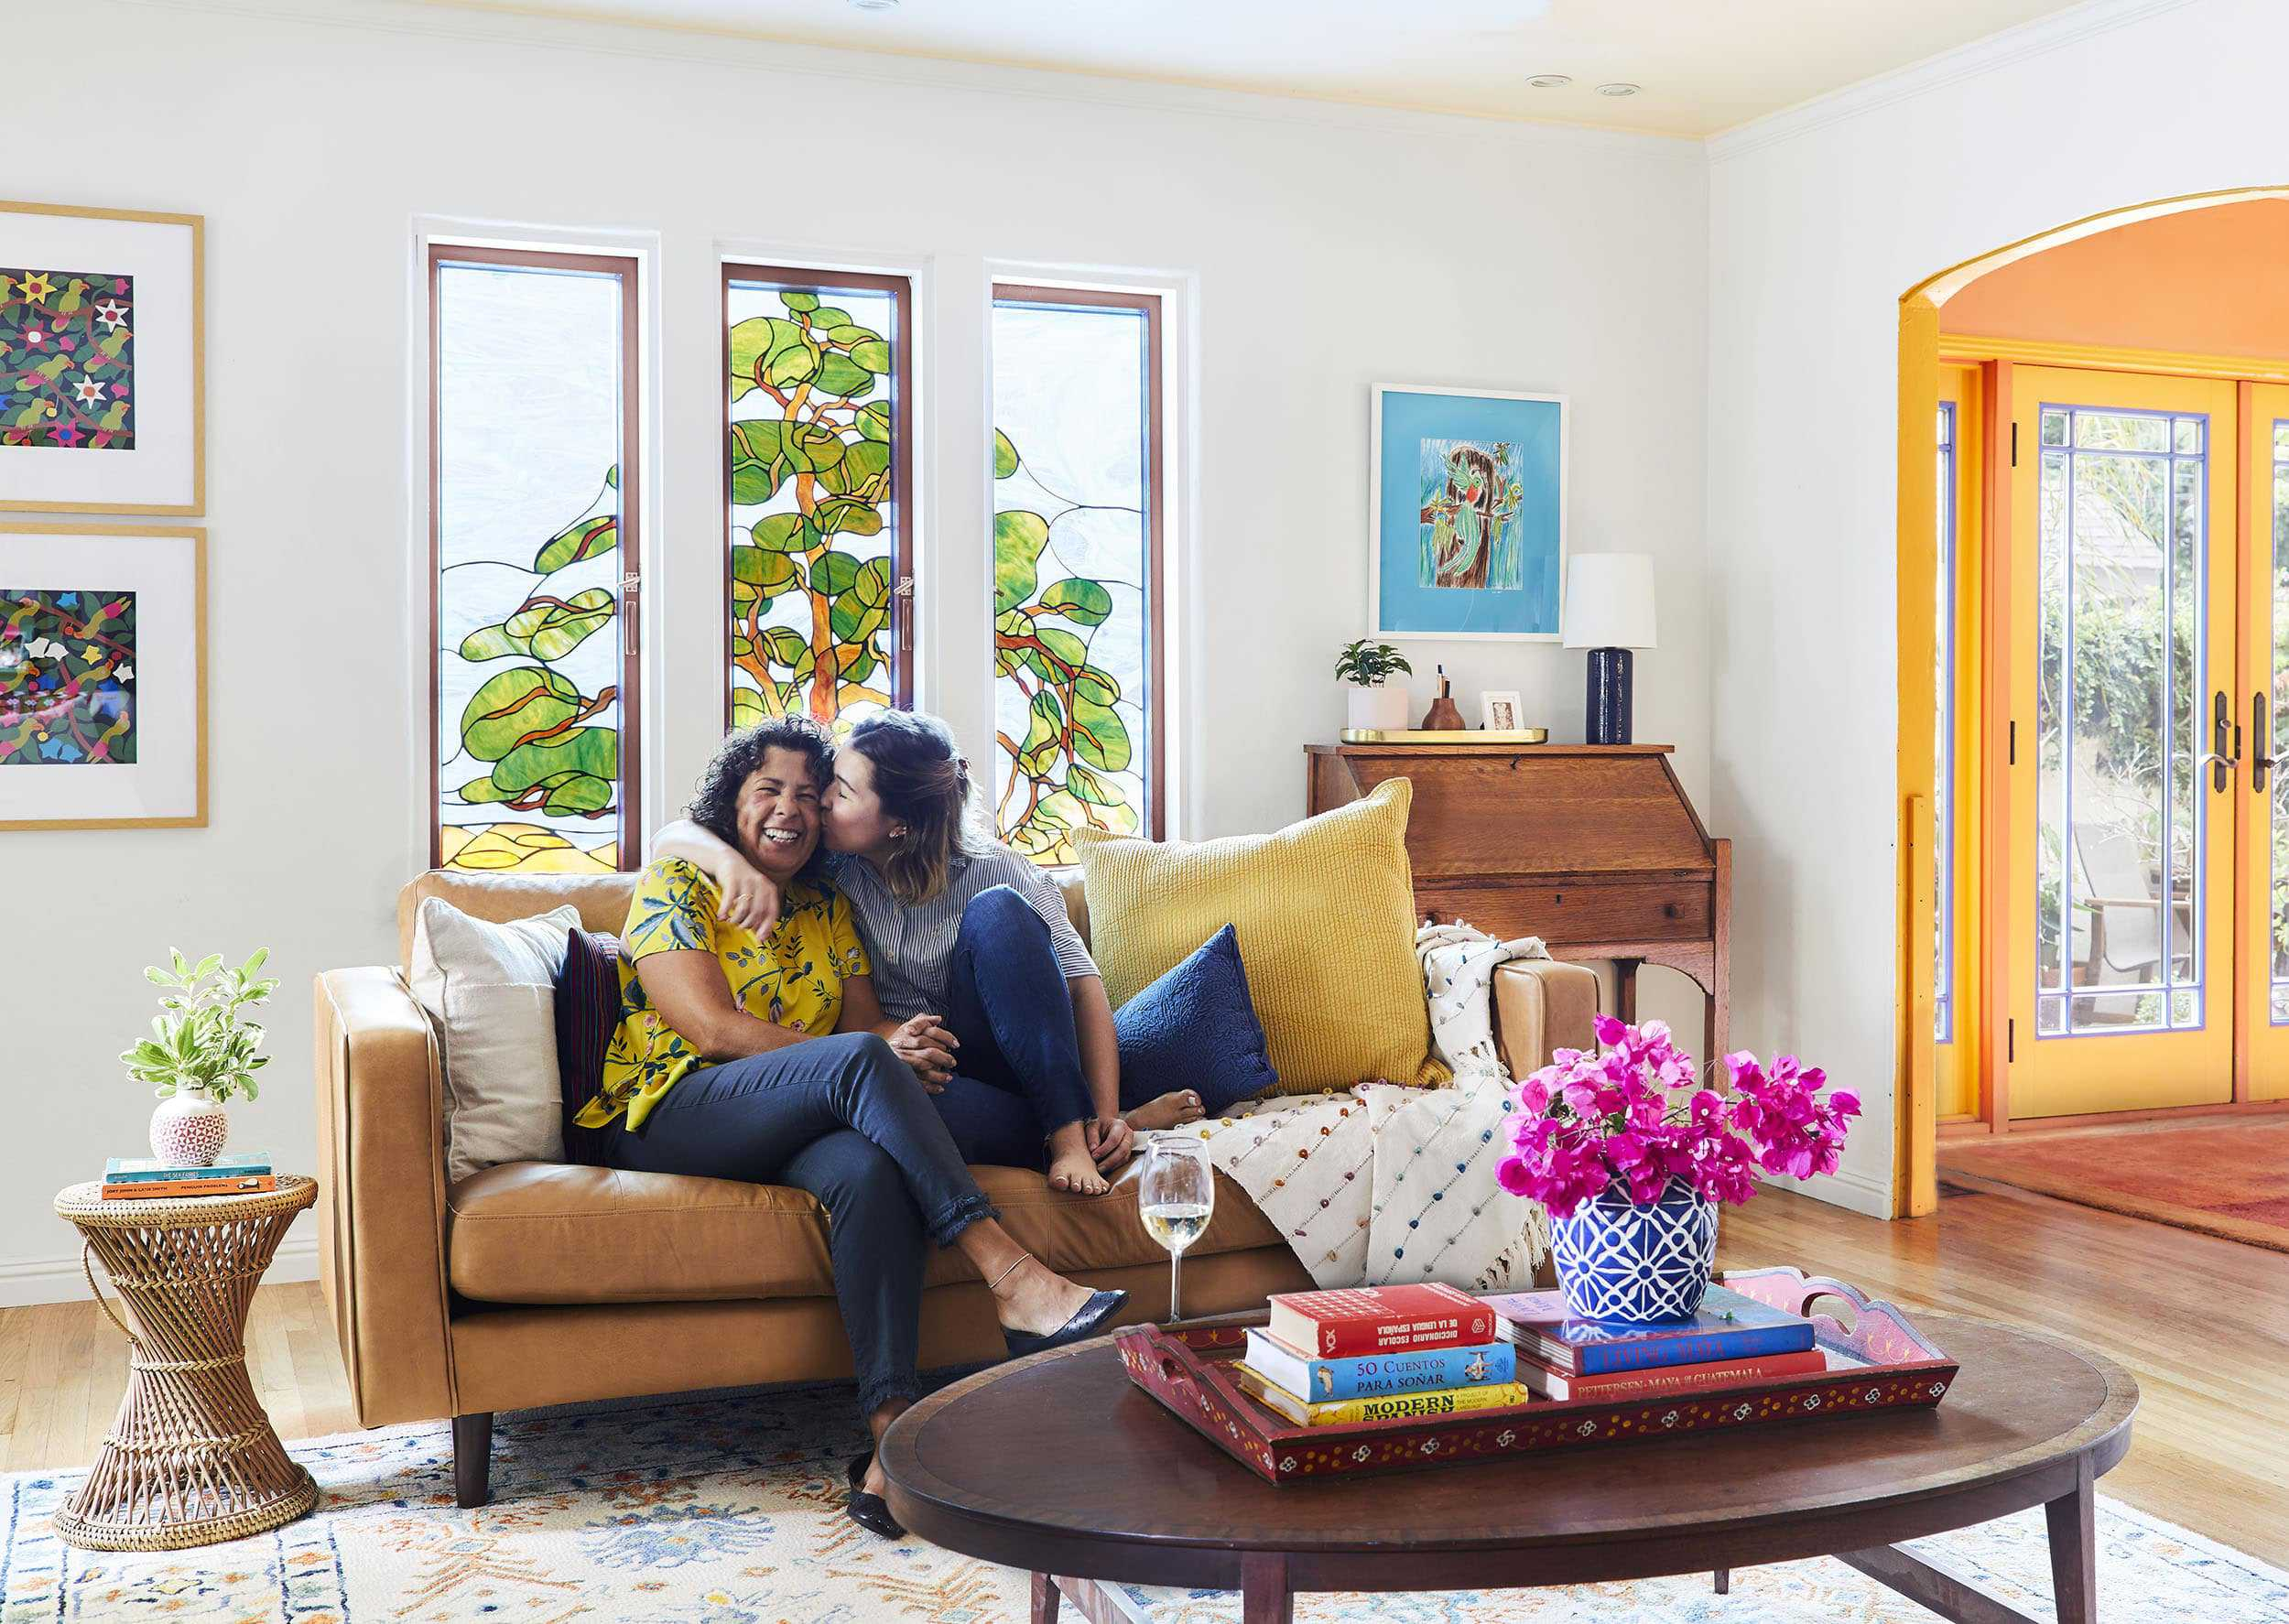biru: (1111, 933, 1275, 1090)
coklat: (879, 1332, 2147, 1585), (1399, 747, 1733, 975)
merah: (1271, 1283, 1491, 1350)
putih: (431, 905, 547, 1162), (1559, 552, 1658, 652), (1350, 685, 1410, 729)
